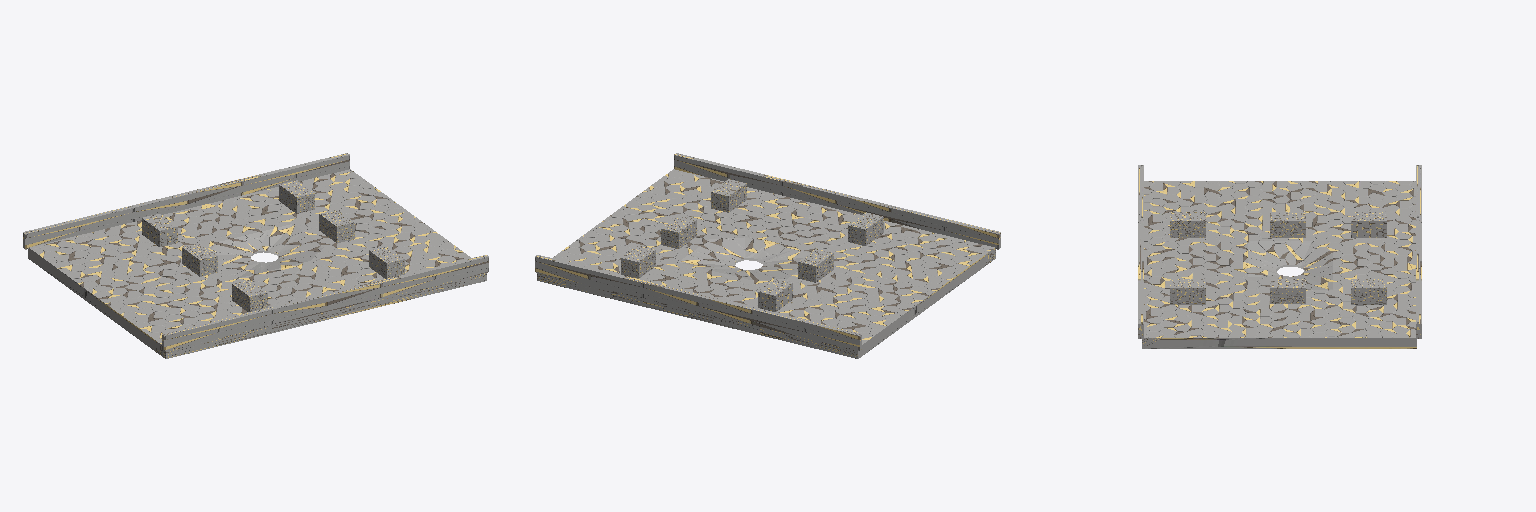
The picture shows the model from 3 angles: view 1: azimuth 30°, elevation 25°; view 2: azimuth 150°, elevation 25°; view 3: azimuth 270°, elevation 25°; orthographic projection.
Parts seen in each view (by area): view 1: Mesa_style; view 2: Mesa_style; view 3: Mesa_style.
Part boxes in pixels (x1,y1,x2,y2): Mesa_style: (23,153,488,358); Mesa_style: (535,153,1000,358); Mesa_style: (1138,165,1421,348).
Size of the model in its own units: 19.91 by 1.65 by 15.03.
Materials: 1 (1 with a texture image).